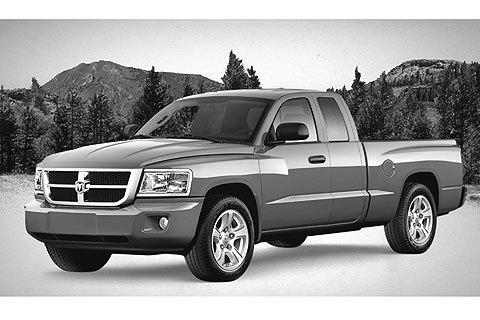car: (23, 86, 469, 286)
